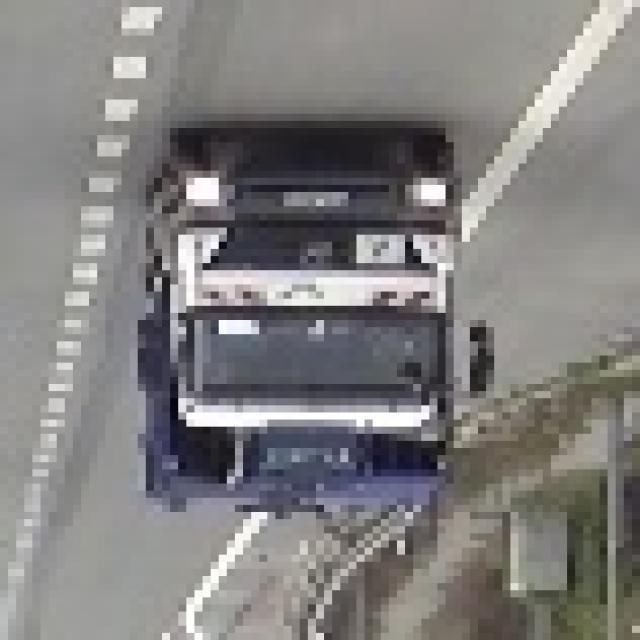truck: (130, 135, 487, 526)
